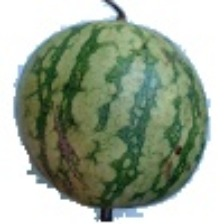watermelon: (4, 24, 184, 217)
